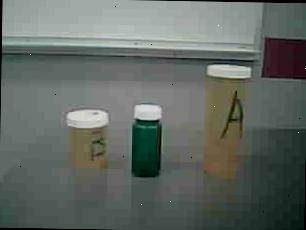Bottle A: (199, 53, 256, 184)
Bottle B: (62, 104, 117, 179)
Bottle C: (127, 101, 171, 182)
